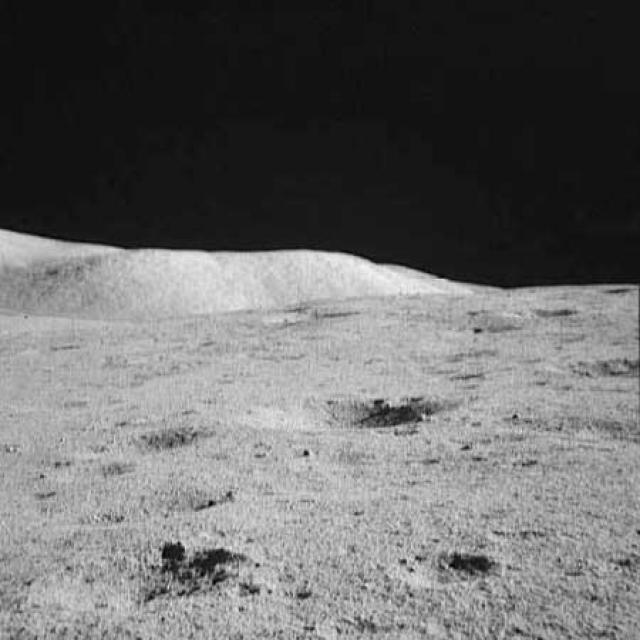crater: (17, 551, 244, 618), (280, 392, 456, 432), (369, 542, 503, 594), (72, 481, 240, 521), (434, 310, 535, 338), (569, 353, 640, 392), (121, 428, 203, 456)
